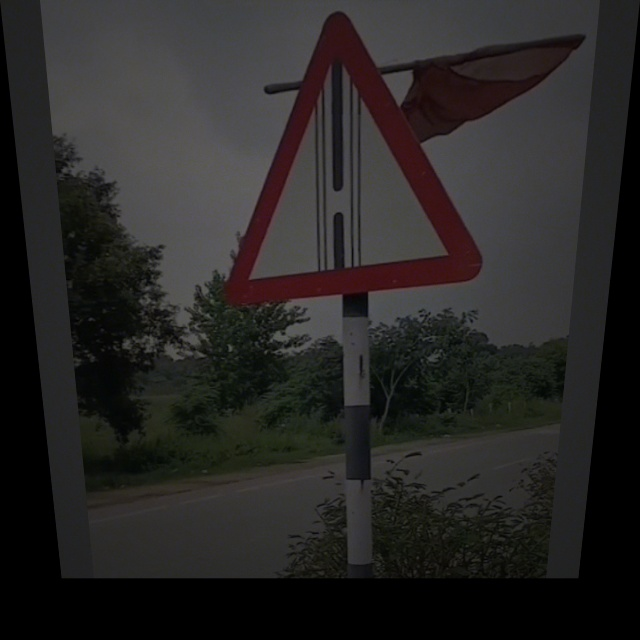Gap_in_Median: (219, 23, 494, 295)
